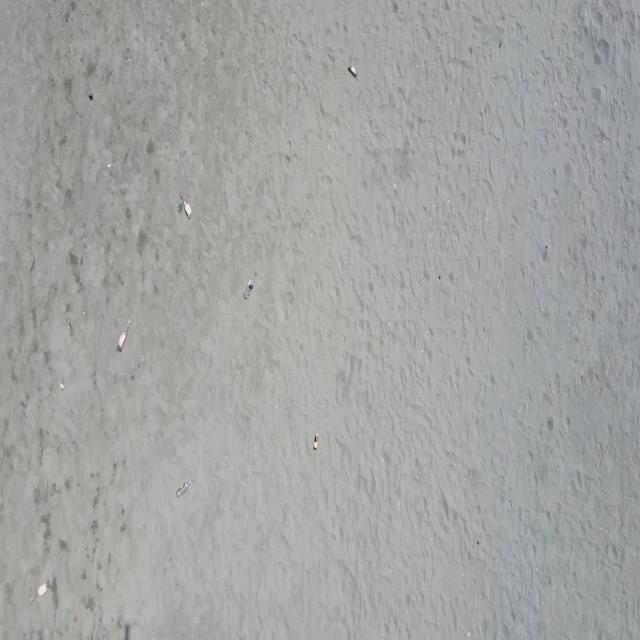glass: (116, 320, 130, 352), (243, 270, 257, 300), (176, 478, 194, 499), (181, 192, 193, 220), (348, 64, 358, 78), (313, 434, 318, 450)
